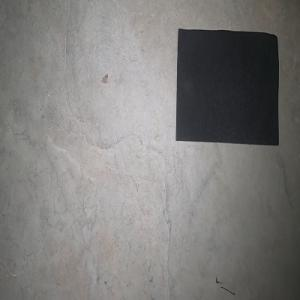PaintChip: (175, 28, 278, 145)
